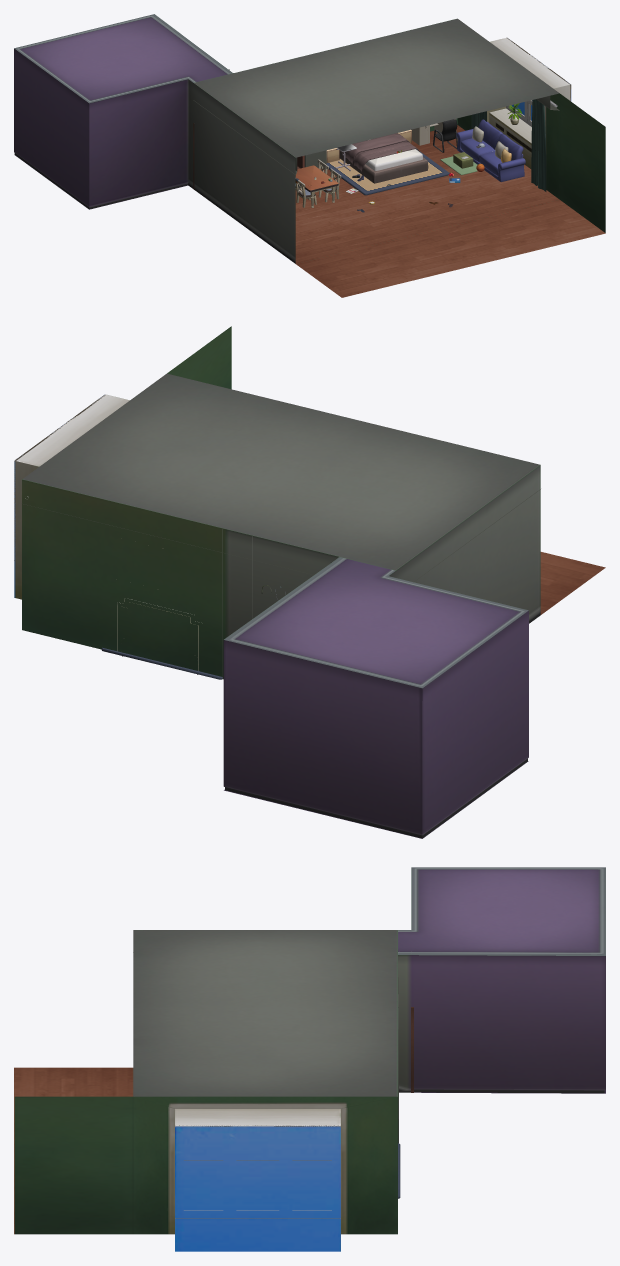
File: PiErSenGongYu_01.FBX
The picture shows the model from 3 angles, top to bottom: view 1: azimuth 30°, elevation 25°; view 2: azimuth 150°, elevation 25°; view 3: azimuth 270°, elevation 25°; orthographic projection. The views are drawn at different scales.
Parts seen in each view (by area): view 1: PiErSenDeGongYu_wuzi_01, PiErSenDeGongYu_wuding_01, PiErSenDeGongYu_qiangbi_02, PiErSenDeGongYu_wuding_02, Object002, Object001, PiErSenDeGongYu_chuang_01, PiErSenDeGongYu_chuanglian_01, PiErSenDeGongYu_zuozi_01, PiErSenDeGongYu_yizi_01, PiErSenDeGongYu_chaji_01, PiErSenDeGongYu_yizii_02 (+1 smaller); view 2: PiErSenDeGongYu_wuzi_01, PiErSenDeGongYu_wuding_01, PiErSenDeGongYu_wuding_02, PiErSenDeGongYu_qiangbi_02; view 3: PiErSenDeGongYu_wuzi_01, PiErSenDeGongYu_wuding_01, PiErSenDeGongYu_qiangbi_03, PiErSenDeGongYu_wuding_02.
Boxes of the visible parts, x1,y1,x2,y2 form: PiErSenDeGongYu_wuzi_01: (14,37,605,297); PiErSenDeGongYu_wuding_01: (194,18,559,157); PiErSenDeGongYu_qiangbi_02: (193,83,297,263); PiErSenDeGongYu_wuding_02: (14,14,227,103); Object002: (339,133,428,183); Object001: (456,119,525,181); PiErSenDeGongYu_chuang_01: (326,151,449,195); PiErSenDeGongYu_chuanglian_01: (471,99,557,191); PiErSenDeGongYu_zuozi_01: (295,165,338,207); PiErSenDeGongYu_yizi_01: (295,159,341,207); PiErSenDeGongYu_chaji_01: (440,152,477,175); PiErSenDeGongYu_yizii_02: (433,119,457,152); PiErSenDeGongYu_wuzi_01: (14,326,605,838); PiErSenDeGongYu_wuding_01: (22,373,540,570); PiErSenDeGongYu_wuding_02: (224,562,528,688); PiErSenDeGongYu_qiangbi_02: (396,465,540,623); PiErSenDeGongYu_wuzi_01: (14,930,605,1234); PiErSenDeGongYu_wuding_01: (133,930,397,1096); PiErSenDeGongYu_qiangbi_03: (175,1126,340,1251); PiErSenDeGongYu_wuding_02: (411,867,605,955).
Bounding box in the file's own units: 7335 × 1938 × 7435.
